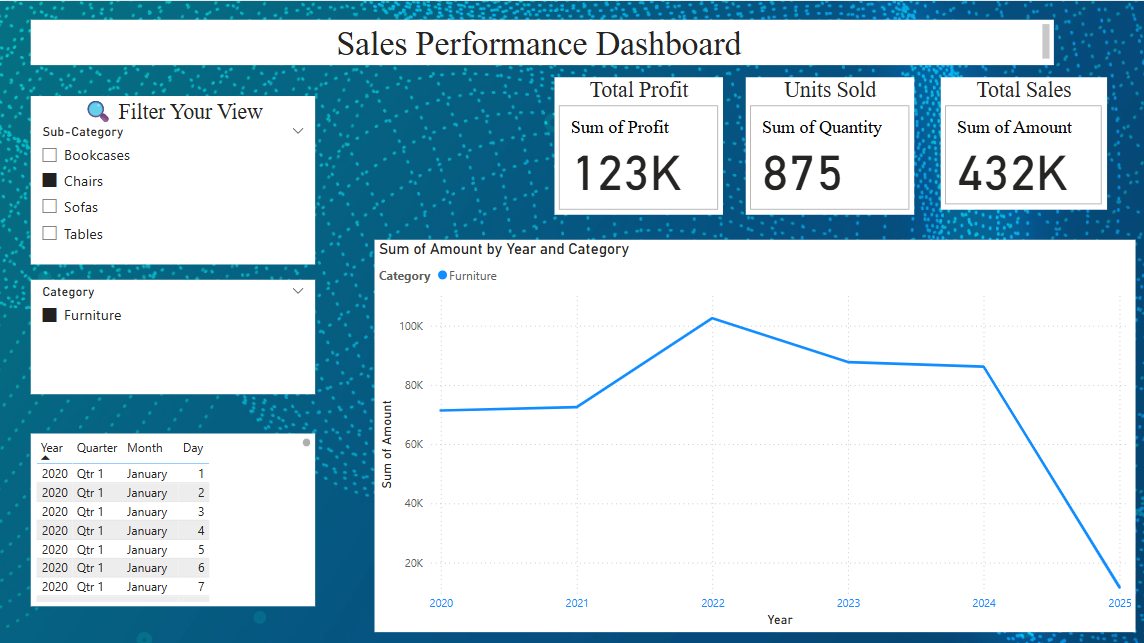

This screenshot's page, from the dashboard's own definition file:
{"tool":"powerbi","page":{"name":"Page 1","canvas":[1280,720],"ordinal":0},"visuals":[{"type":"cardVisual","title":"Total Sales","fields":{"Data":["Sum(Sales_Dataset[1].Amount)"]},"box":[1048.9,85.1,184.7,147.2],"z":0},{"type":"cardVisual","title":"Total Profit","fields":{"Data":["Sum(Sales_Dataset[1].Profit)"]},"box":[618.9,85.1,187.6,152.9],"z":1000},{"type":"cardVisual","title":"Units Sold","fields":{"Data":["Sum(Sales_Dataset[1].Quantity)"]},"box":[832.5,85.1,187.6,152.9],"z":2000},{"type":"slicer","title":"🔍 Filter Your View","fields":{"Values":["Sales_Dataset[1].Sub-Category"]},"box":[37.5,105.3,316,187.6],"z":3000},{"type":"slicer","fields":{"Values":["Sales_Dataset[1].Category"]},"box":[37.5,310.2,316,127],"z":4000},{"type":"tableEx","fields":{"Values":["Sales_Dataset[1].Order Date.Variation.Date Hierarchy.Year","Sales_Dataset[1].Order Date.Variation.Date Hierarchy.Quarter","Sales_Dataset[1].Order Date.Variation.Date Hierarchy.Month","Sales_Dataset[1].Order Date.Variation.Date Hierarchy.Day"]},"box":[37.5,480.4,316,191.9],"z":5000},{"type":"lineChart","fields":{"Category":["Sales_Dataset[1].Order Date.Variation.Date Hierarchy.Year","Sales_Dataset[1].Order Date.Variation.Date Hierarchy.Quarter","Sales_Dataset[1].Order Date.Variation.Date Hierarchy.Month","Sales_Dataset[1].Order Date.Variation.Date Hierarchy.Day"],"Series":["Sales_Dataset[1].Category"],"Y":["Sum(Sales_Dataset[1].Amount)"]},"box":[419.8,265.5,845.5,435.7],"z":6000},{"type":"textbox","box":[37.5,20.2,1136.9,50.5],"z":7000}]}

Visuals, with their boxes in screenshot pixels (x1, y1, x2, y2), scaled from the page's 1280x720 canvas onto the 1144x643 screenshot:
"Total Sales" cardVisual: pyautogui.locateOnScreen(937, 76, 1103, 207)
"Total Profit" cardVisual: pyautogui.locateOnScreen(553, 76, 721, 213)
"Units Sold" cardVisual: pyautogui.locateOnScreen(744, 76, 912, 213)
"🔍 Filter Your View" slicer: pyautogui.locateOnScreen(34, 94, 316, 262)
slicer - Sales_Dataset[1].Category: pyautogui.locateOnScreen(34, 277, 316, 390)
tableEx - Sales_Dataset[1].Order Date.Variation.Date Hierarchy.Year x Sales_Dataset[1].Order Date.Variation.Date Hierarchy.Quarter: pyautogui.locateOnScreen(34, 429, 316, 600)
lineChart - Sales_Dataset[1].Order Date.Variation.Date Hierarchy.Year x Sales_Dataset[1].Order Date.Variation.Date Hierarchy.Quarter: pyautogui.locateOnScreen(375, 237, 1131, 626)
textbox: pyautogui.locateOnScreen(34, 18, 1050, 63)
